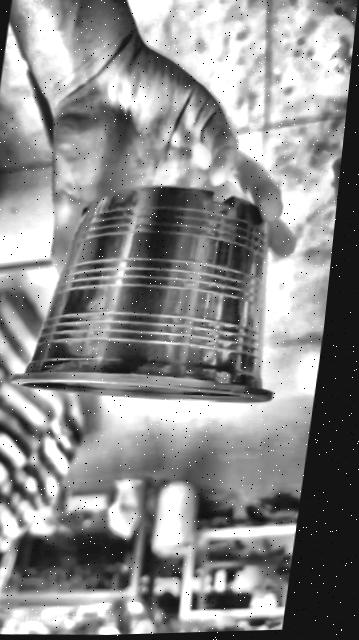pot: (12, 186, 271, 401)
